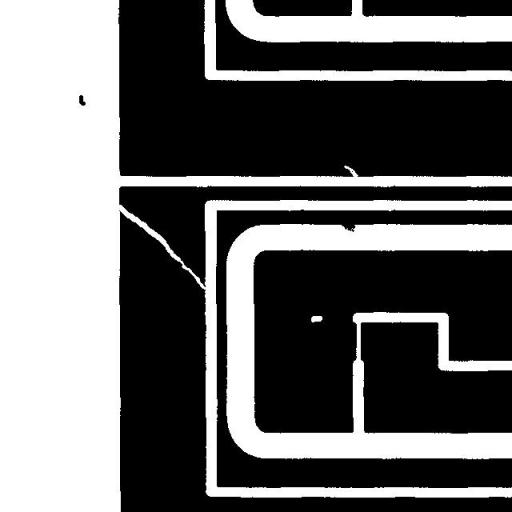copper: (71, 87, 93, 113)
mousebite: (336, 158, 366, 184)
open: (107, 197, 214, 297)
pin-hole: (303, 308, 330, 330)
spur: (332, 212, 362, 239)
